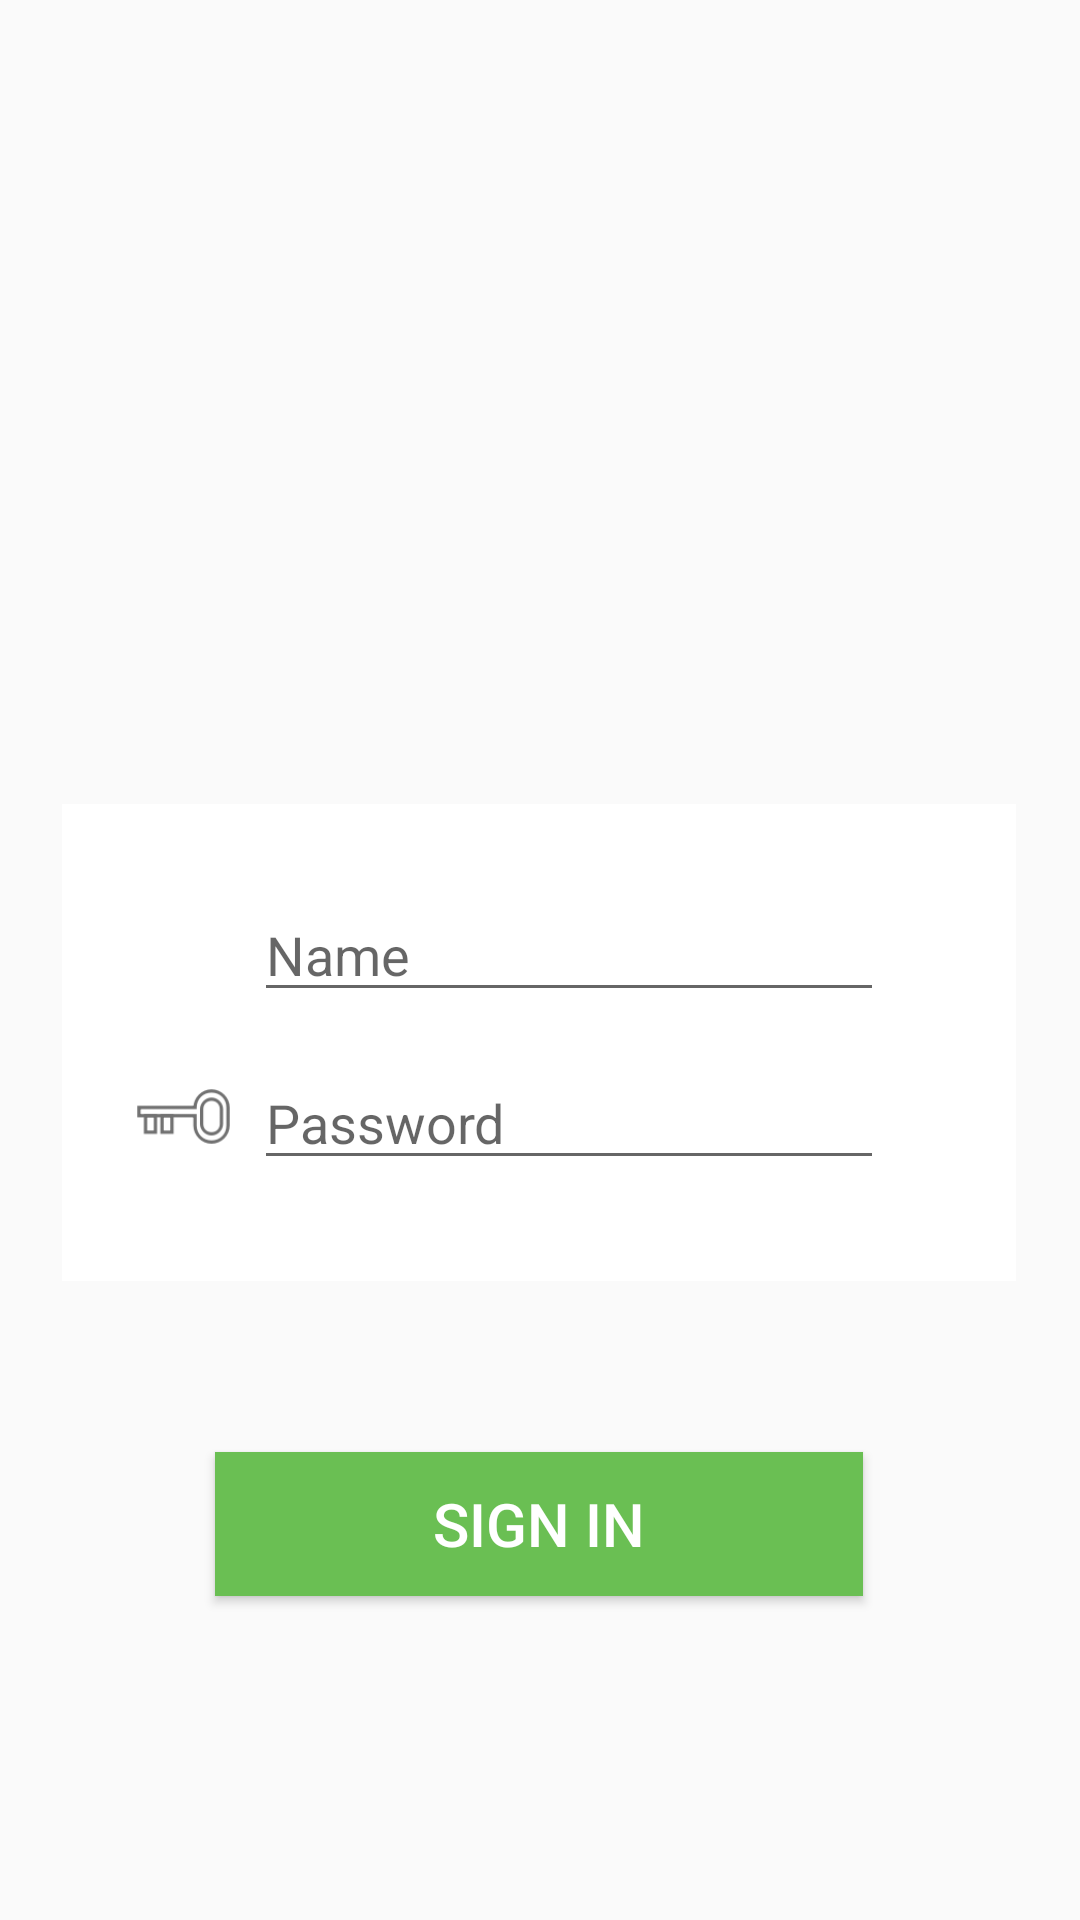

Icons on this 1080px×1920px Android screen, each with the point to tap as (x,y):
key: (183,1116)
